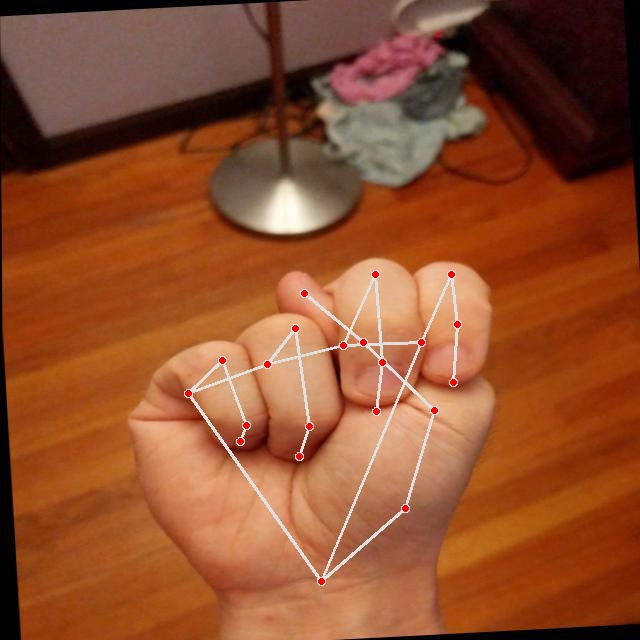N: (107, 244, 519, 612)
